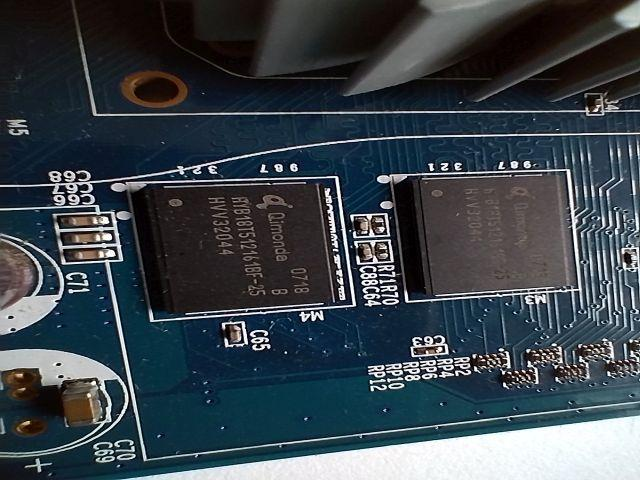capacitor: (54, 372, 113, 436), (53, 205, 111, 235), (58, 248, 133, 264), (409, 340, 451, 358)
